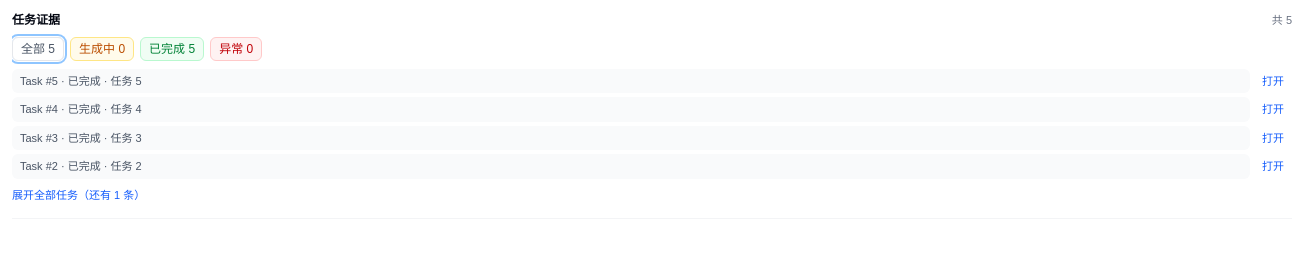
ProductionCanvasGraph › expands long task evidence summaries on demand
The image size is (1304, 264).
Expected: the text "Task #1 · 已完成 · 任务 1" is not shown
Click the button "展开全部任务（还有 1 条）" at (79, 195), box [12,186,145,203]
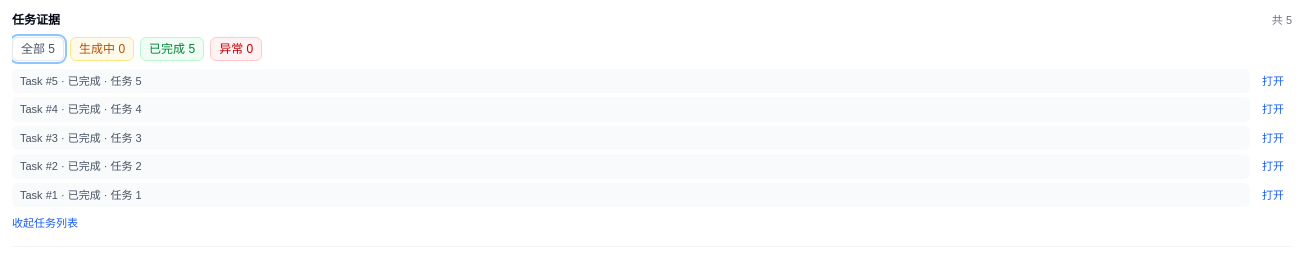
Now the text "Task #1 · 已完成 · 任务 1" is shown, box [20,188,142,200]
Click the button "收起任务列表" at (45, 223), box [12,215,78,232]
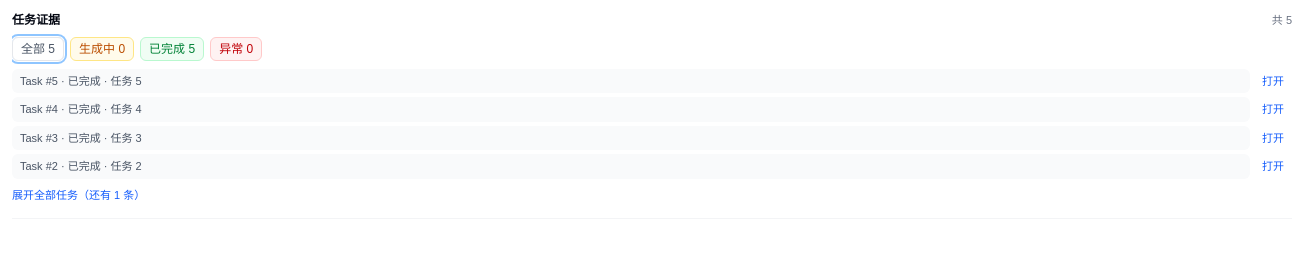
Now the button "Task #1 · 已完成 · 任务 1" is gone
